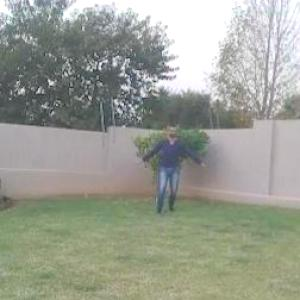land: (138, 113, 217, 219)
